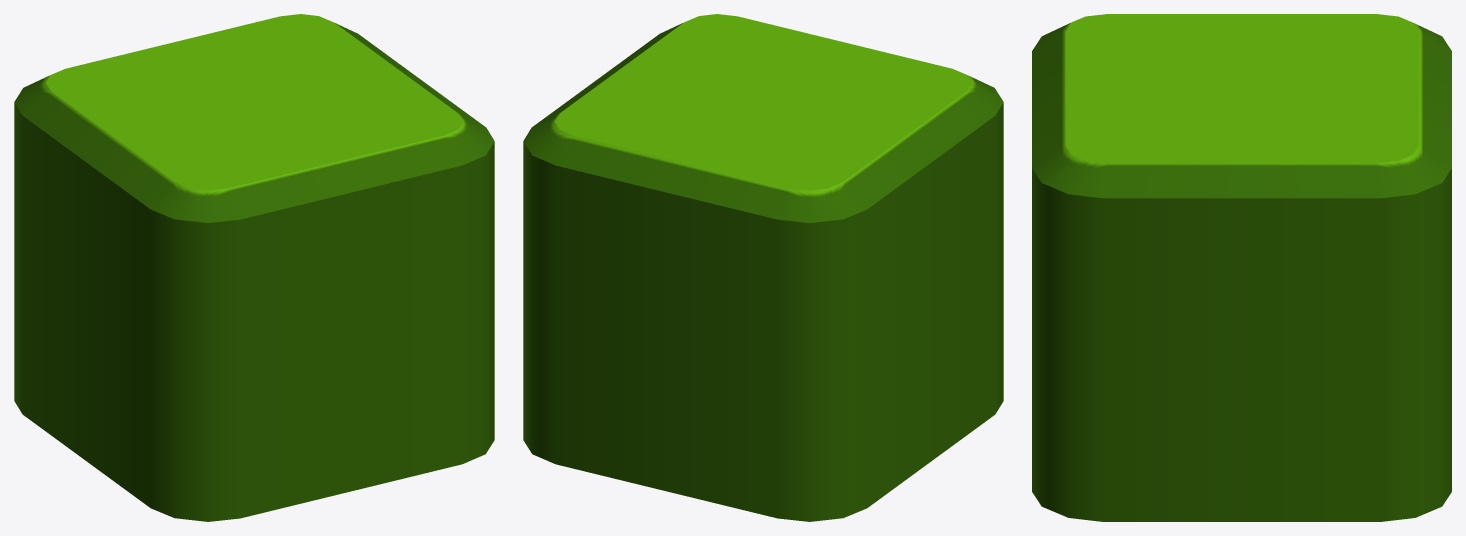
The model's file is cube_Green.fbx.
3 views of the same model, side by side, from view 1: azimuth 30°, elevation 25°; view 2: azimuth 150°, elevation 25°; view 3: azimuth 270°, elevation 25° (orthographic). The views are drawn at different scales.
Parts seen in each view (by area): view 1: cube_Green; view 2: cube_Green; view 3: cube_Green.
Boxes of the visible parts, box(x1,y1,x2,y2) form: cube_Green: box(14, 14, 494, 521); cube_Green: box(523, 14, 1003, 521); cube_Green: box(1032, 14, 1451, 521).
Bounding box in the file's own units: 100 × 90.58 × 100.
